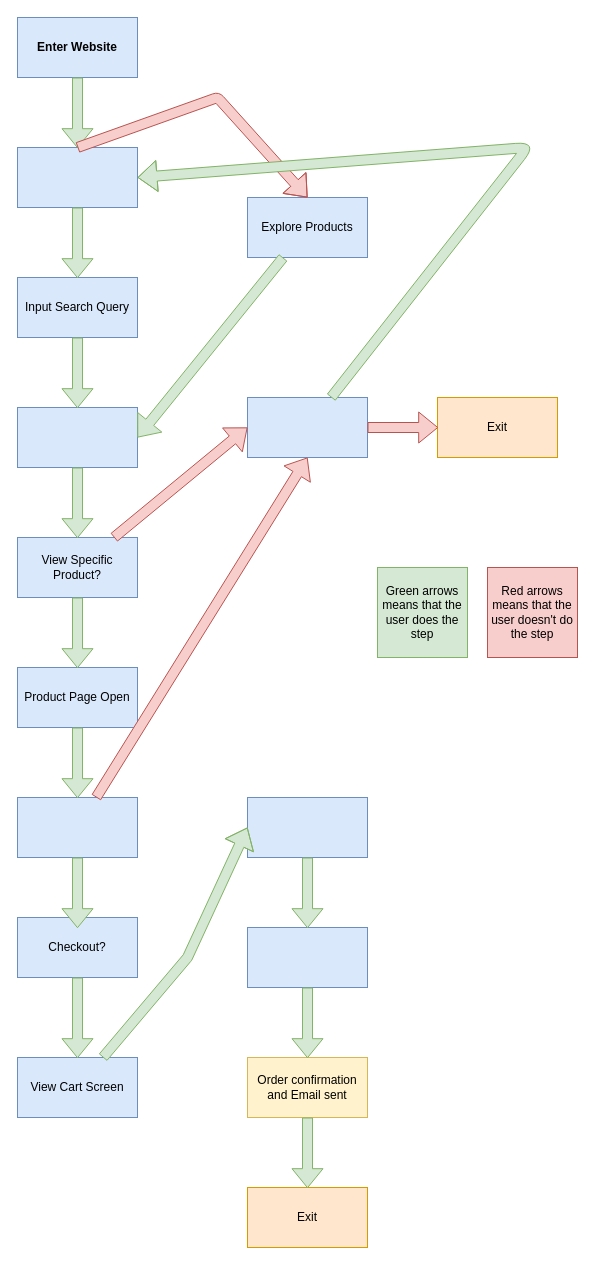
Some shapes in this 595 by 1265 pixel diagram are drawn without their labels. The centre of each missing label's shape, as x and y in pixels:
"Add to Cart?" goes at pixel 77 827.
"Continue Shopping?" goes at pixel 307 427.
"Input Payment Information" goes at pixel 307 957.
"Seach for Product ?" goes at pixel 77 177.
"View Payment Screen" goes at pixel 307 827.
"View Products List" goes at pixel 77 437.
